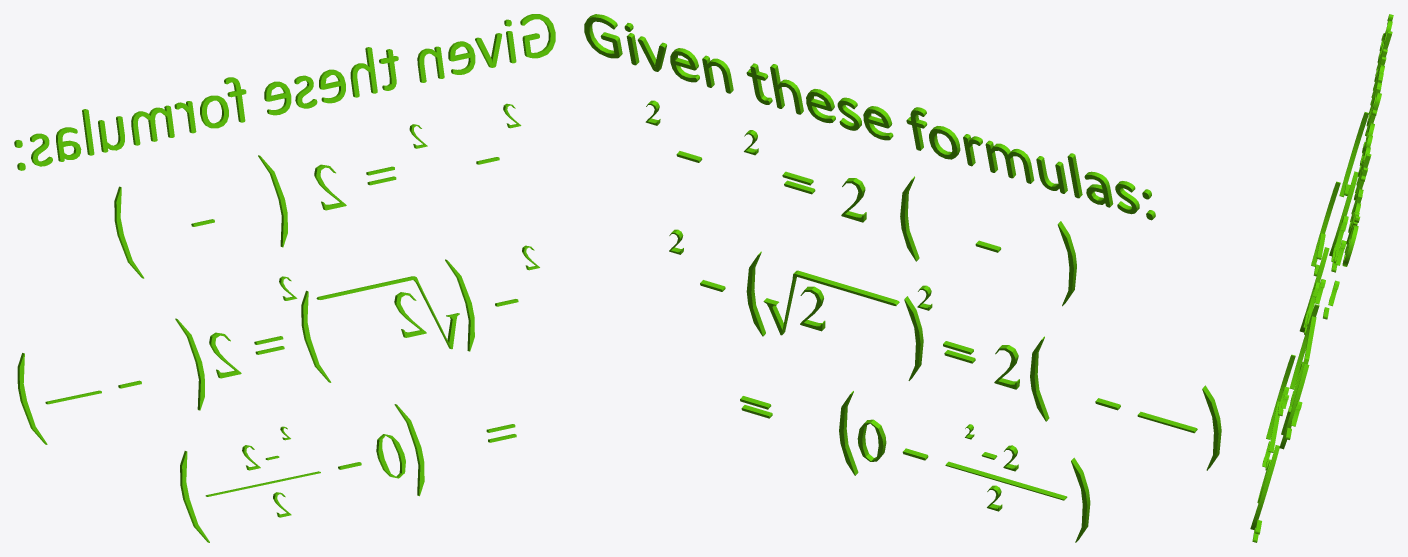
File: blank_formula.fbx
3 views of the same model, side by side, from view 1: azimuth 30°, elevation 25°; view 2: azimuth 150°, elevation 25°; view 3: azimuth 270°, elevation 25° (orthographic). The views are drawn at different scales.
Parts seen in each view (by area): view 1: blank_formula; view 2: blank_formula; view 3: blank_formula.
Boxes of the visible parts, x1=… form: blank_formula: x1=14, y1=14, x2=555, y2=542; blank_formula: x1=584, y1=14, x2=1221, y2=542; blank_formula: x1=1250, y1=14, x2=1393, y2=542.
Bounding box in the file's own units: 57.21 × 40.61 × 13.71.
